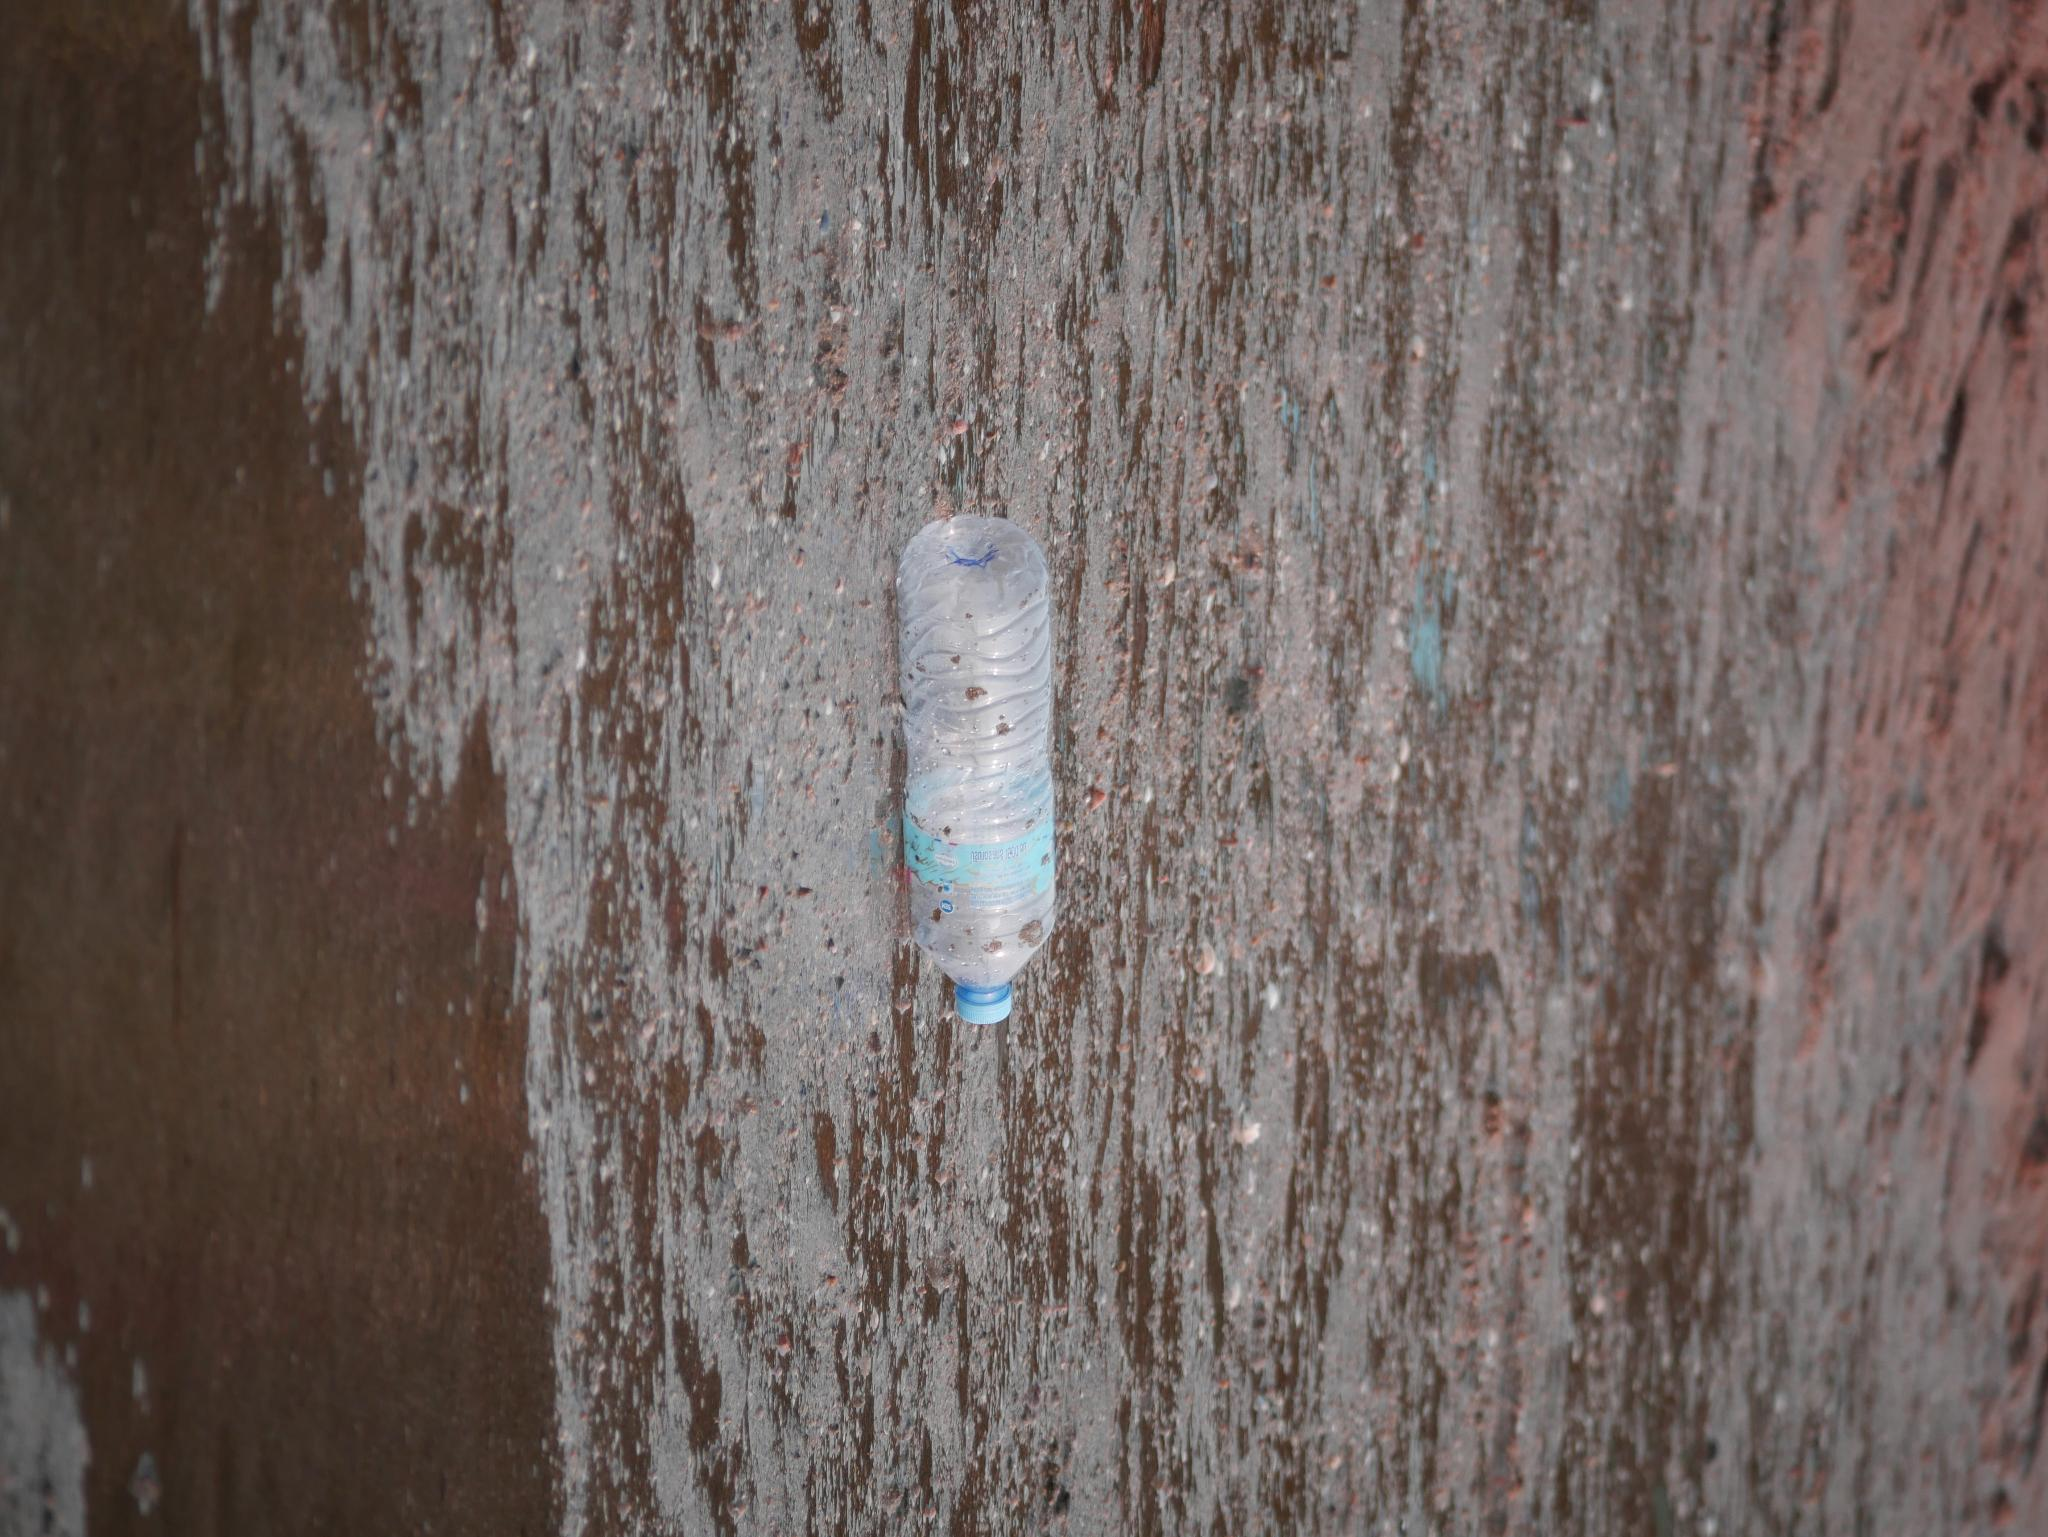Plastic: (478, 347, 1052, 581)
